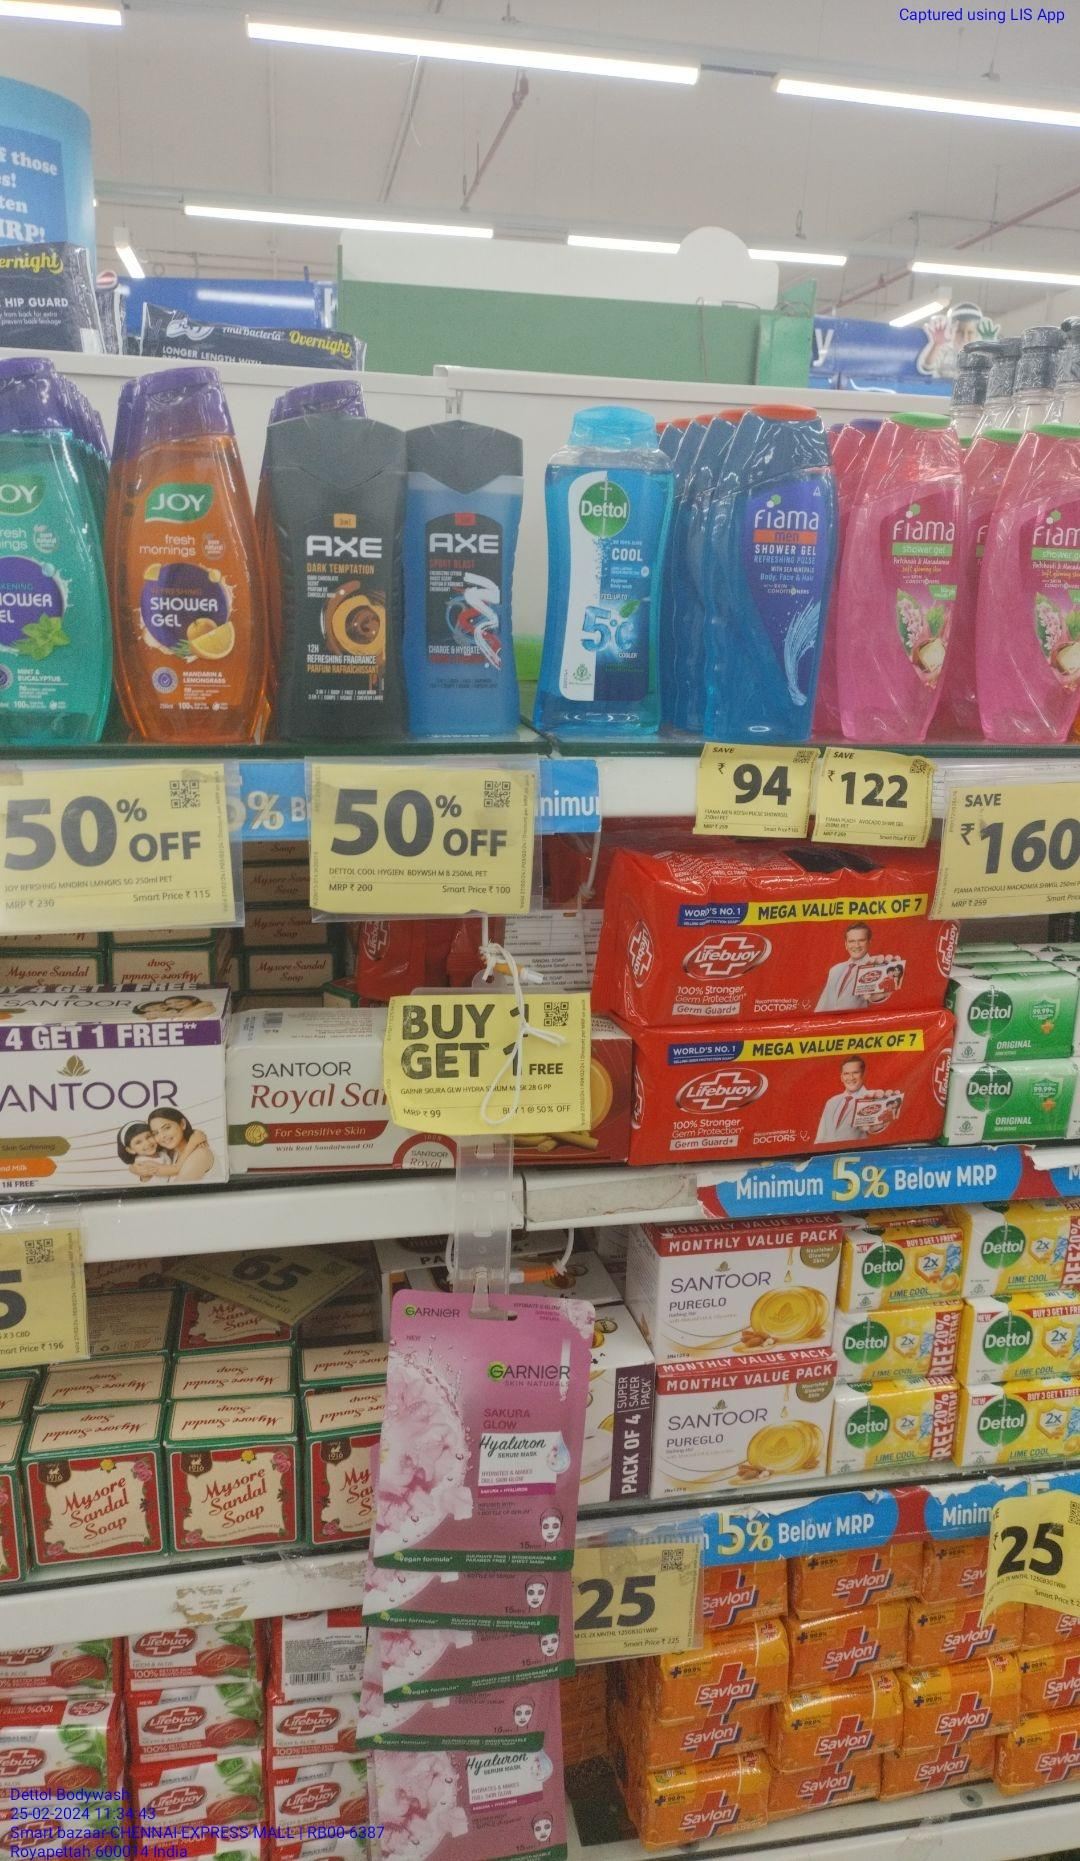Dettol_Bodywash_Cool: (555, 411, 669, 725)
Fiama_Shower_Gel_Patchouli_and_Macadamia_250ML: (854, 418, 978, 751), (1005, 422, 1080, 756)
Joy_Shower_Gel_Mandarin_and_Lemongrass_250ML: (130, 369, 267, 745)
Joy_Shower_Gel_Mint_and_Eucalyptus_250ML: (0, 352, 111, 743)
